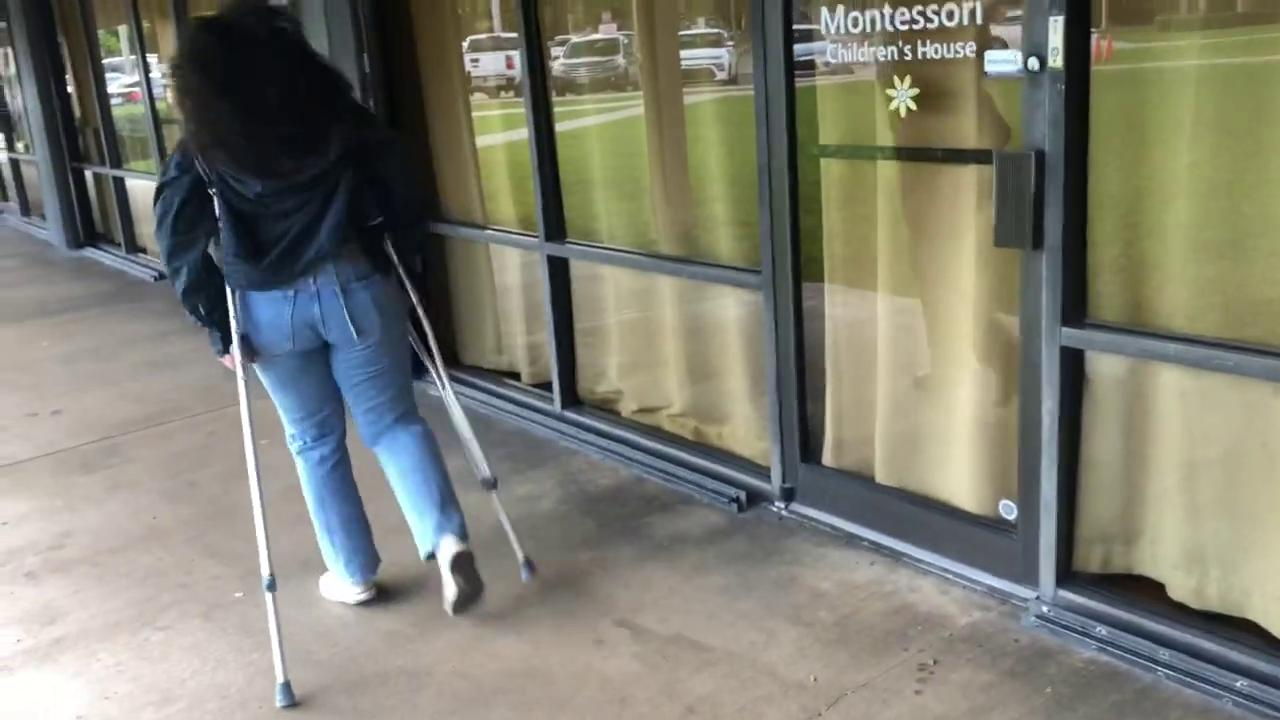crutches: (153, 19, 536, 710)
